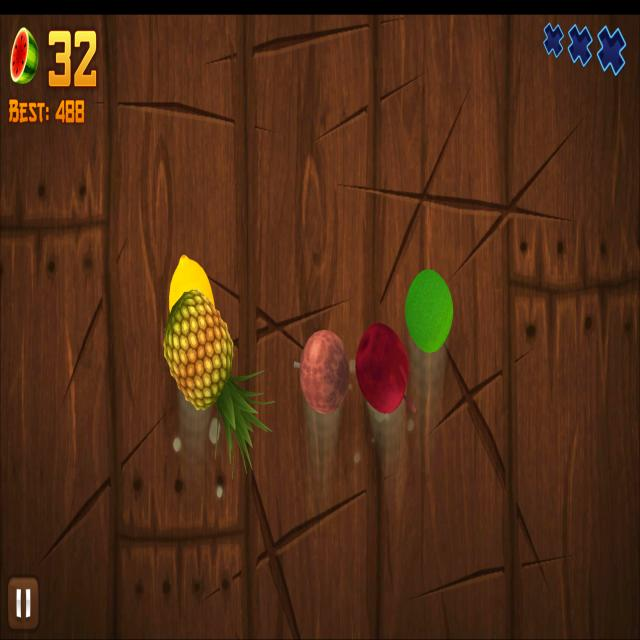fruit: (163, 289, 234, 411), (356, 322, 410, 414), (404, 268, 455, 353), (299, 329, 349, 414), (169, 254, 216, 314)
